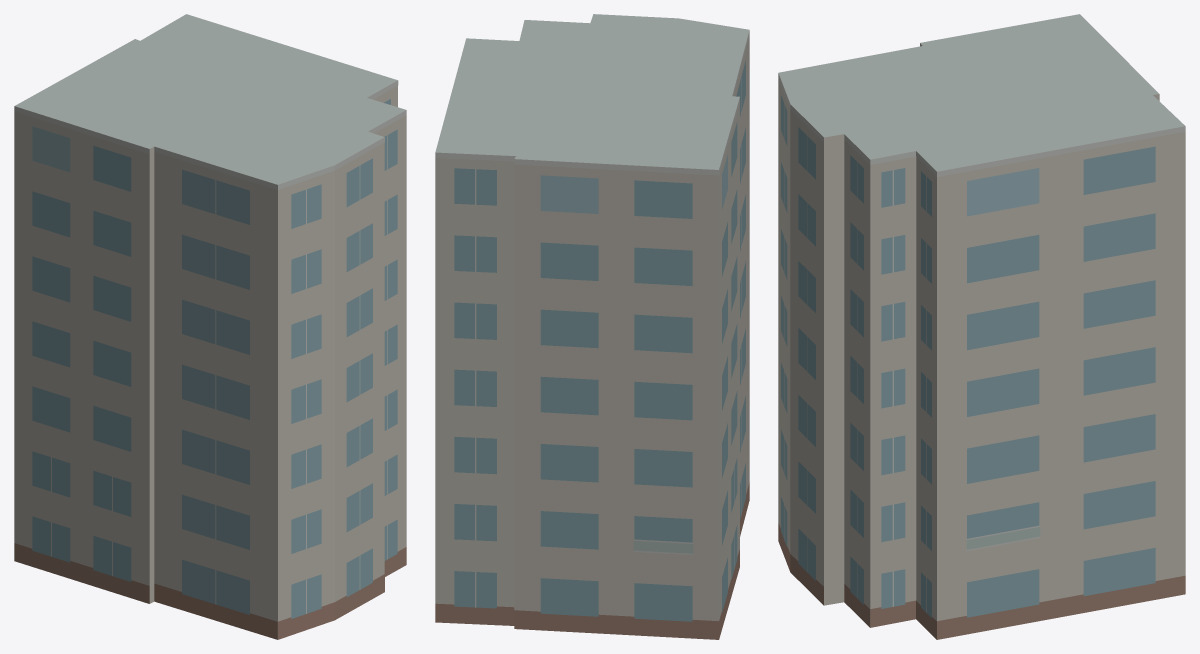
Rendered from survey-upis-32636375.glb.
The picture shows the model from 3 angles, left to right: view 1: azimuth 30°, elevation 25°; view 2: azimuth 150°, elevation 25°; view 3: azimuth 270°, elevation 25°; orthographic projection. The views are drawn at different scales.
Visible parts, largest first — view 1: survey-upis-32636375.tmp; view 2: survey-upis-32636375.tmp; view 3: survey-upis-32636375.tmp.
Boxes of the visible parts, x1,y1,x2,y2 form: survey-upis-32636375.tmp: (14,14,406,639); survey-upis-32636375.tmp: (435,14,749,639); survey-upis-32636375.tmp: (778,14,1185,639).
Size of the model in its own units: 15.33 by 21.2 by 16.73.
